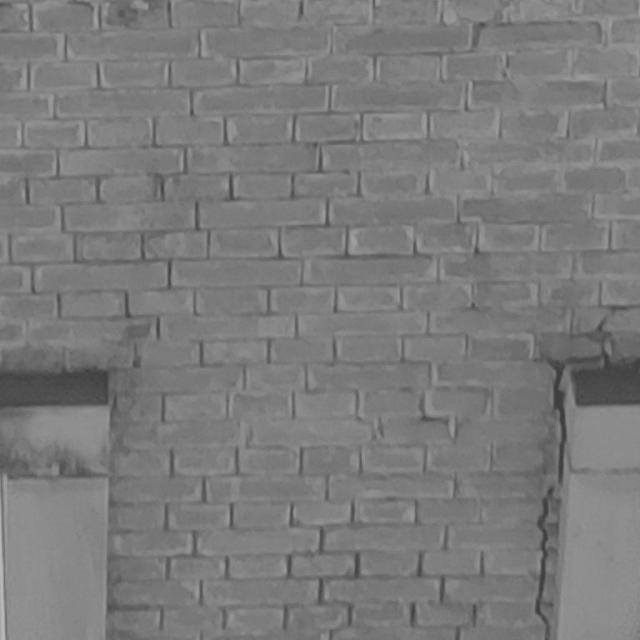crack: (534, 305, 629, 640)
